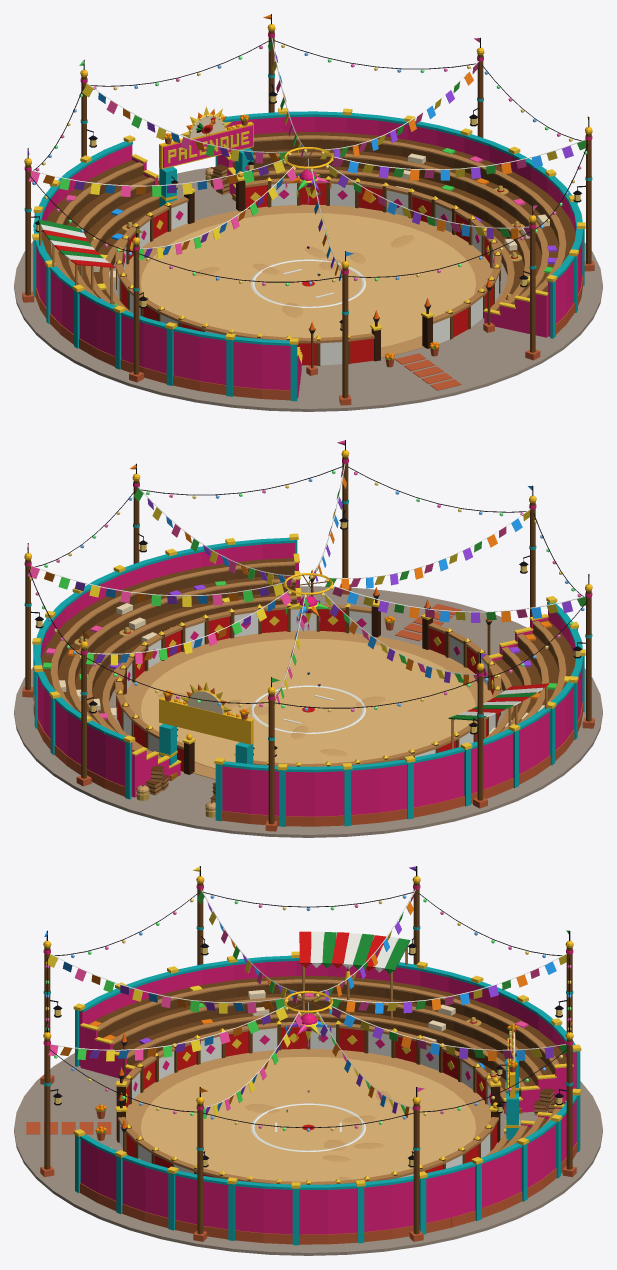
File: ArenaPalenque.fbx
The picture shows the model from 3 angles, top to bottom: view 1: azimuth 30°, elevation 25°; view 2: azimuth 150°, elevation 25°; view 3: azimuth 270°, elevation 25°; orthographic projection.
Parts seen in each view (by area): view 1: Cuerpo, Gradas, PapelPicado, Postes, Adornos, Postes__Brillo_foco; view 2: Cuerpo, Gradas, PapelPicado, Postes, Adornos, Postes__Brillo_foco; view 3: Cuerpo, Gradas, PapelPicado, Postes, Adornos, Postes__Brillo_foco.
Part boxes in pixels (left/top/right/bottom): Cuerpo: left=14, top=167, right=602, bottom=411; Gradas: left=32, top=108, right=585, bottom=401; PapelPicado: left=28, top=38, right=585, bottom=282; Postes: left=22, top=14, right=594, bottom=405; Adornos: left=38, top=106, right=494, bottom=375; Postes__Brillo_foco: left=36, top=44, right=580, bottom=329; Cuerpo: left=14, top=586, right=602, bottom=837; Gradas: left=32, top=533, right=585, bottom=826; PapelPicado: left=27, top=464, right=585, bottom=708; Postes: left=22, top=440, right=594, bottom=831; Adornos: left=136, top=576, right=549, bottom=817; Postes__Brillo_foco: left=29, top=482, right=580, bottom=755; Cuerpo: left=14, top=1020, right=602, bottom=1255; Gradas: left=73, top=951, right=581, bottom=1245; PapelPicado: left=46, top=889, right=566, bottom=1118; Postes: left=40, top=866, right=576, bottom=1241; Adornos: left=95, top=931, right=566, bottom=1151; Postes__Brillo_foco: left=45, top=899, right=571, bottom=1165.
Bounding box in the file's own units: 5480 × 1590 × 5480.
Materials: 2 (2 with a texture image).
